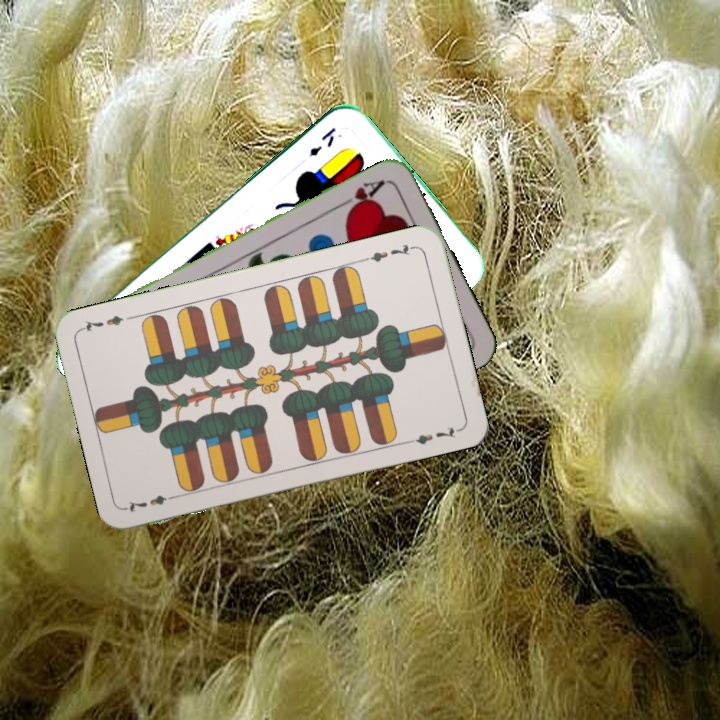E7: (360, 240, 419, 265), (122, 490, 181, 515)
EK: (305, 123, 339, 159)
HA: (334, 175, 388, 216)
